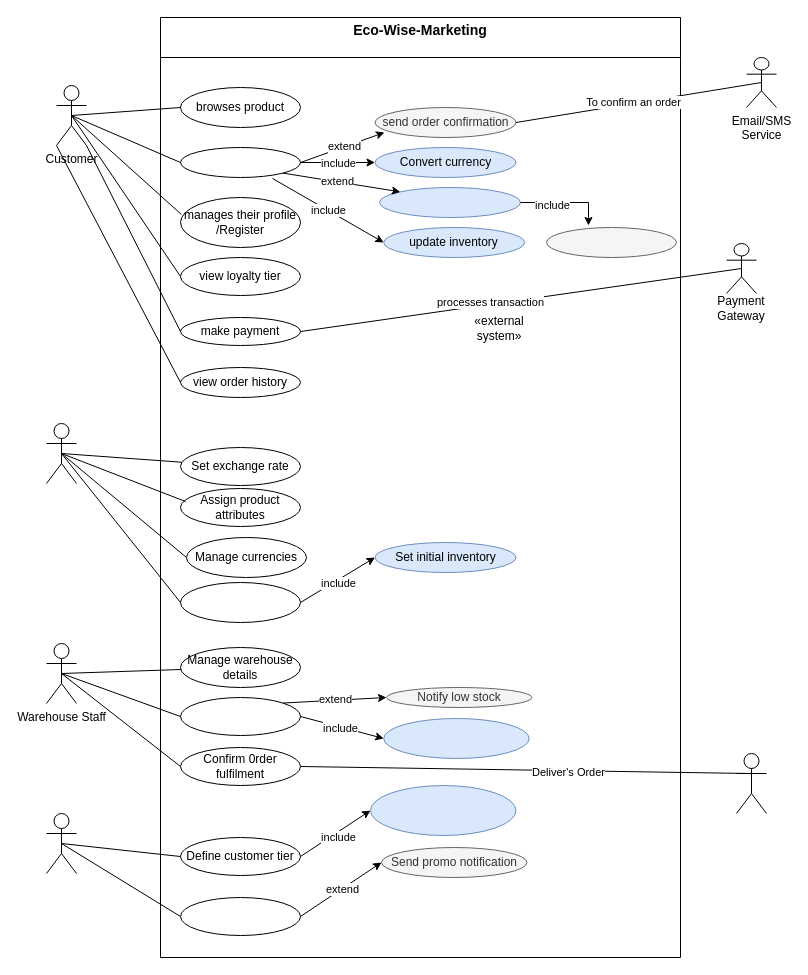
The diagram is 808 pixels wide and 975 high, and some of its shapes have lost their labels. The box of each missing label's shape, as (x1, y1, x2, y2) in pixels:
Add/update product: (180, 582, 300, 622)
Administrator: (46, 422, 76, 484)
Apply promo discount: (546, 226, 676, 258)
Apply tier discount: (378, 186, 520, 218)
Create discount campaign: (180, 896, 300, 936)
Delivery Service: (736, 752, 766, 814)
Marketing Manager: (46, 812, 76, 874)
places order: (180, 146, 300, 178)
Re-evaluate customer tiers: (370, 784, 516, 836)
Record stock time stamp: (383, 718, 529, 758)
Update stock: (180, 696, 300, 736)
